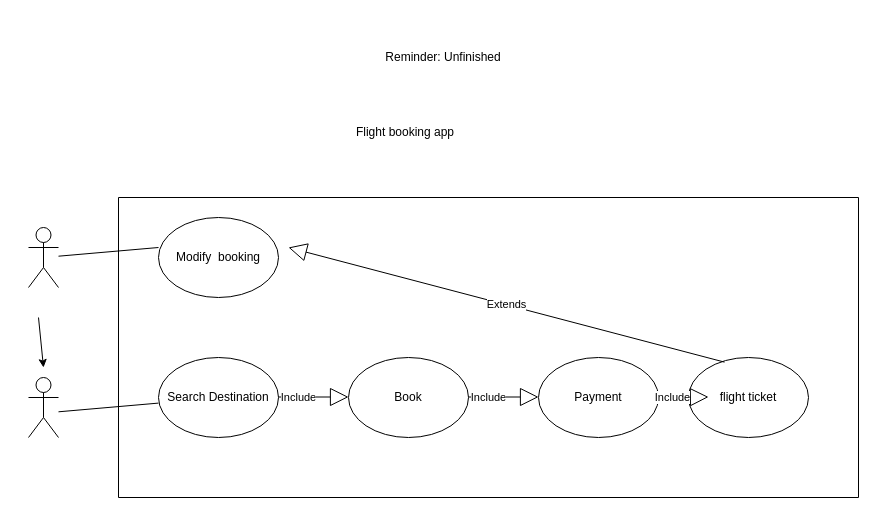
This 876x515 diagram has some shape labels left out. The shapes that lost their labels are listed below. From the top down, each one's centre as x and y in pixels, then its label:
(x=43, y=257): Admin
(x=43, y=407): Customer
